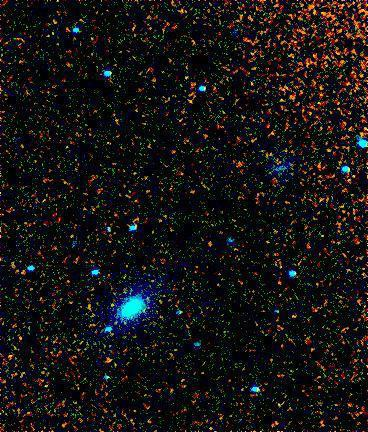star: (195, 229, 225, 259)
